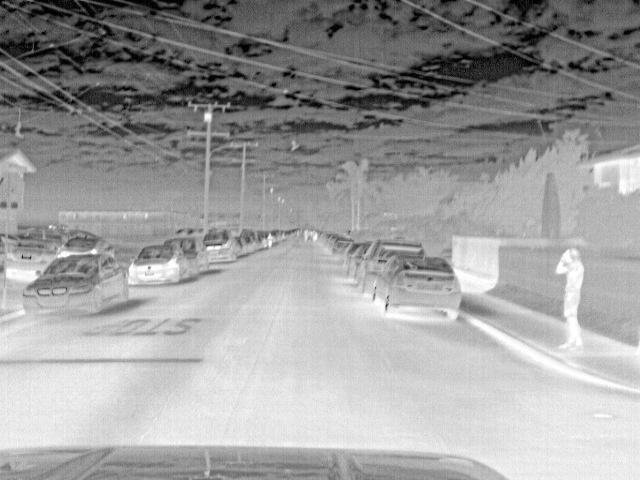car: (24, 253, 131, 321), (368, 252, 464, 326), (355, 242, 423, 292), (133, 243, 194, 283), (2, 239, 57, 279), (160, 236, 209, 274), (56, 235, 107, 260), (201, 230, 239, 262), (341, 242, 367, 273), (332, 236, 354, 256), (238, 234, 256, 253), (232, 236, 248, 256)
person: (554, 246, 586, 350), (264, 230, 276, 248)
